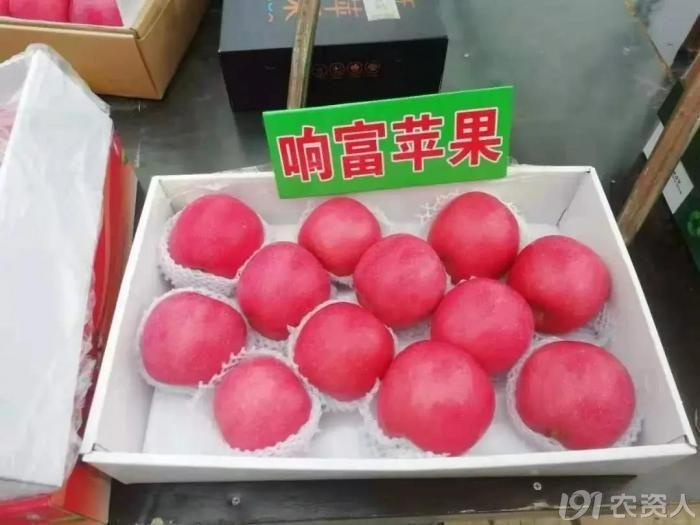apple: (377, 338, 495, 457), (516, 339, 636, 448), (138, 289, 250, 391), (291, 302, 397, 401), (511, 232, 609, 335), (210, 355, 312, 452), (431, 278, 534, 373), (236, 241, 330, 339), (356, 234, 447, 329), (427, 191, 521, 281), (166, 194, 264, 279), (298, 196, 381, 280)
